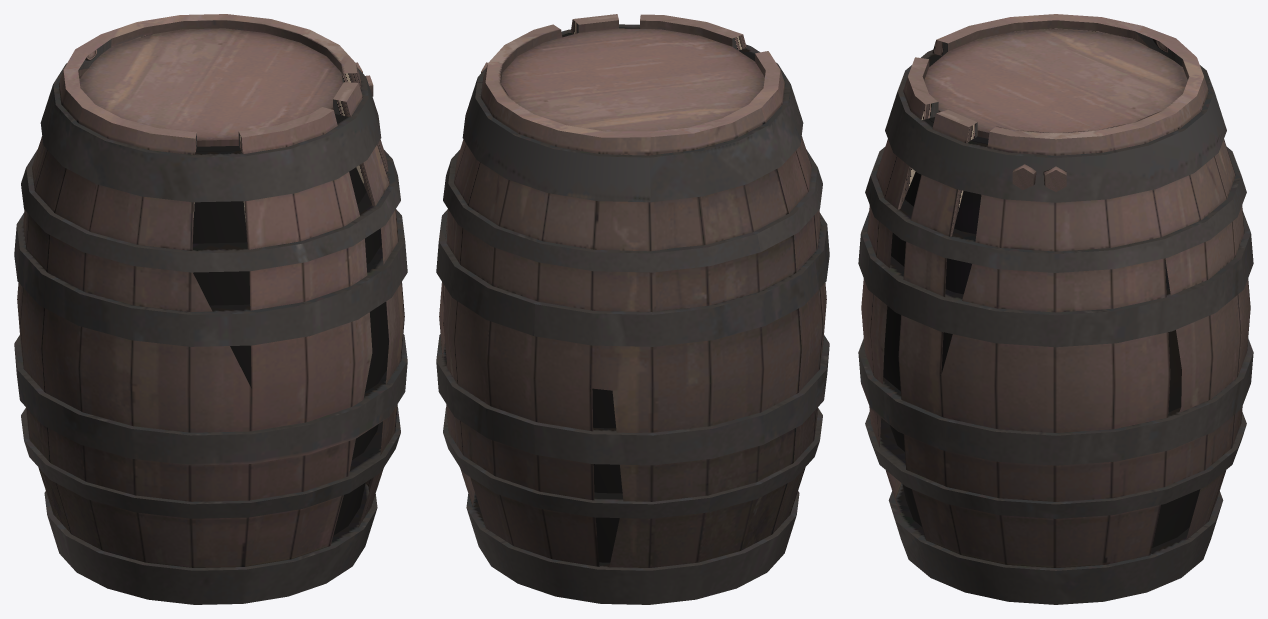
The model's file is wooden_barrel_break01.glb.
The picture shows the model from 3 angles, left to right: view 1: azimuth 30°, elevation 25°; view 2: azimuth 150°, elevation 25°; view 3: azimuth 270°, elevation 25°; orthographic projection.
Parts seen in each view (by area): view 1: wooden_barrel_break01; view 2: wooden_barrel_break01; view 3: wooden_barrel_break01.
Part boxes in pixels (left/top/right/bottom): wooden_barrel_break01: left=14, top=14, right=407, bottom=604; wooden_barrel_break01: left=436, top=14, right=829, bottom=604; wooden_barrel_break01: left=858, top=14, right=1253, bottom=604.
Size of the model in its own units: 0.8845 by 1.15 by 0.8845.
1 material, 1 textured.
